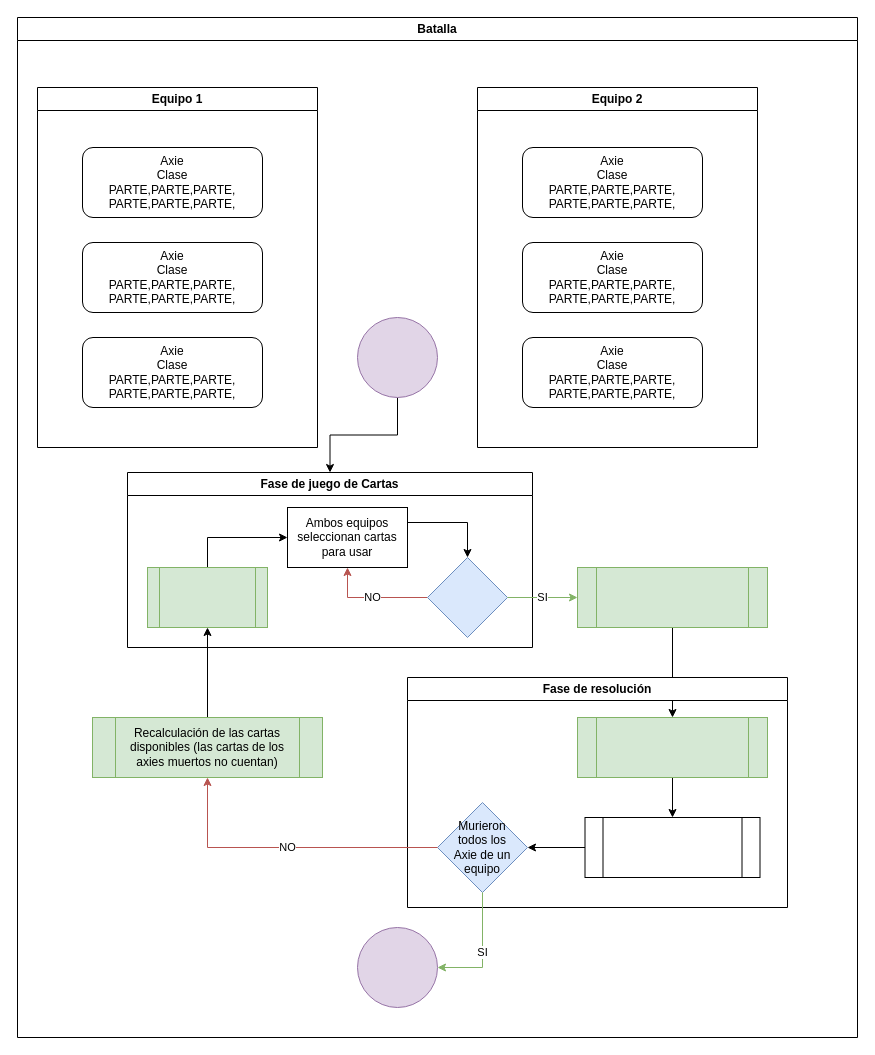
The diagram is 875 pixels wide and 1055 high, and some of its shapes have lost their labels. The centre of each missing label's shape, as x and y in pixels:
Activacion de todos los escudos de las cartas jugadas.: the point at 672,747
Ambos terminaron: the point at 467,597
Barajada de cartas: the point at 207,597
FIN: the point at 397,967
INICIO: the point at 397,357
Recalculación de velocidades de cada Axie según la ecuación.: the point at 672,597
Se juegan las cartas, ordenadas por la velocidad del Axie: the point at 672,847
